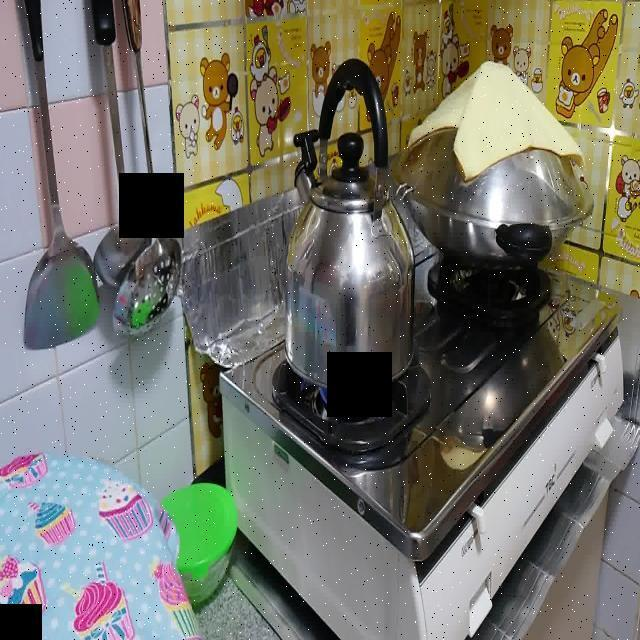Pan: (286, 53, 400, 383)
